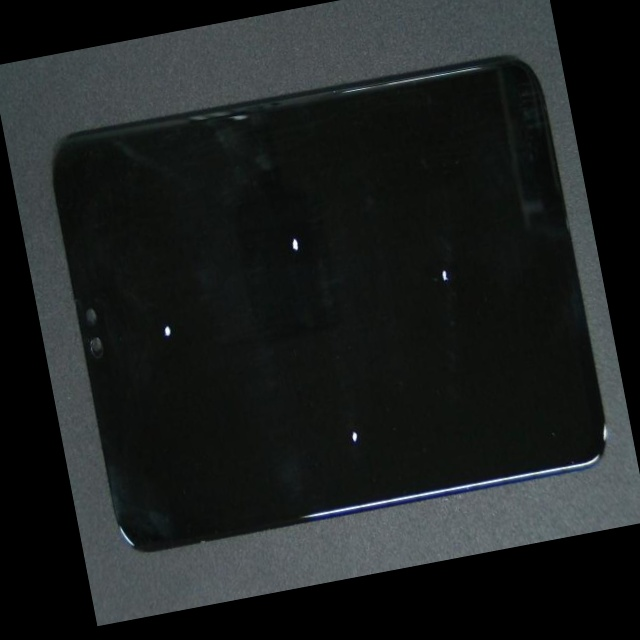stain: (203, 84, 626, 469), (168, 175, 511, 599), (125, 116, 436, 413), (60, 174, 247, 521)
